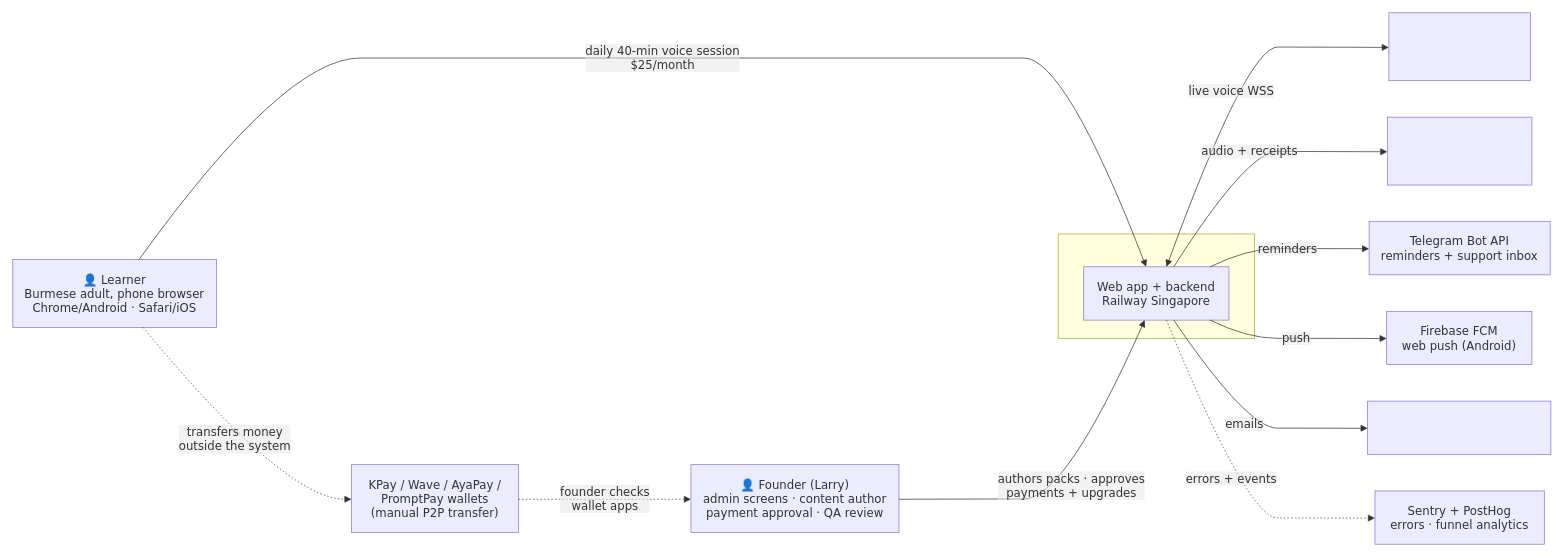
This 1564x557 diagram has some shape labels left out. Each missing label, with the box of its shape:
[PRODUCT NAME TBD] — AI voice English tutor: (1057, 233, 1255, 338)
Cloudflare R2 session recordings + payment receipts: (1387, 116, 1532, 185)
Email provider reset links · founder alerts: (1367, 400, 1551, 454)
Gemini Live May's voice + brain (Google): (1388, 12, 1530, 81)
